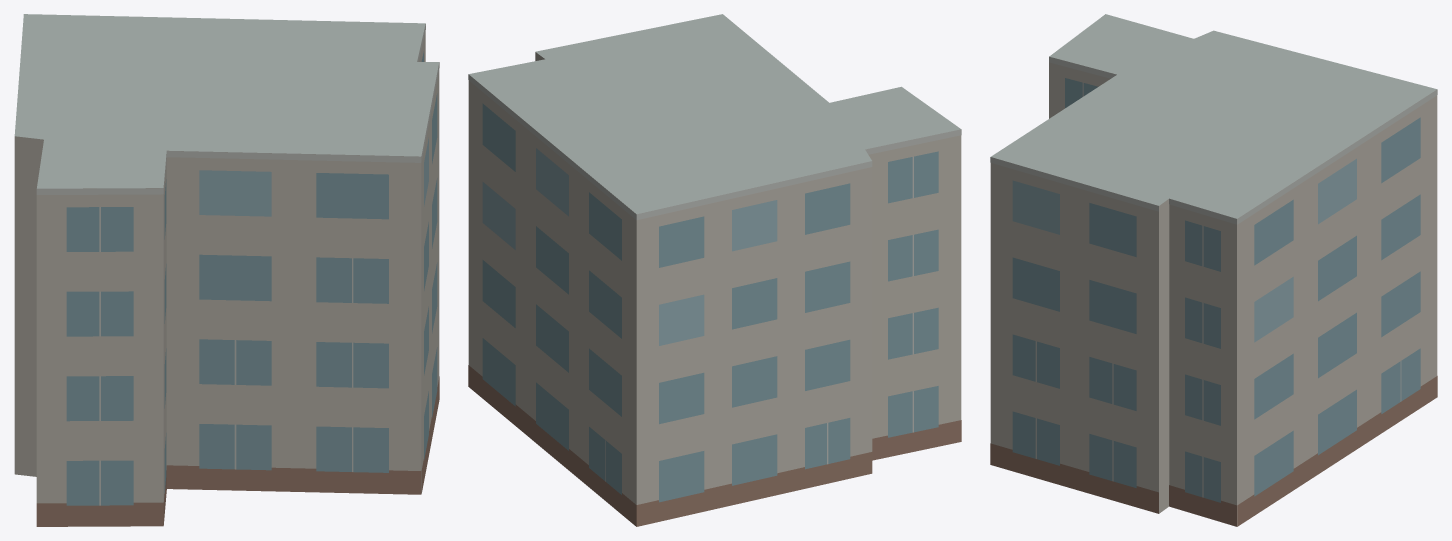
The model's file is survey-upis-32956593.glb.
The picture shows the model from 3 angles, left to right: view 1: azimuth 30°, elevation 25°; view 2: azimuth 150°, elevation 25°; view 3: azimuth 270°, elevation 25°; orthographic projection. The views are drawn at different scales.
Visible parts, largest first — view 1: survey-upis-32956593.tmp; view 2: survey-upis-32956593.tmp; view 3: survey-upis-32956593.tmp.
Boxes of the visible parts, x1=… form: survey-upis-32956593.tmp: x1=14, y1=14, x2=439, y2=526; survey-upis-32956593.tmp: x1=468, y1=14, x2=961, y2=526; survey-upis-32956593.tmp: x1=990, y1=14, x2=1437, y2=526.
Size of the model in its own units: 18.28 by 12.8 by 16.85.
